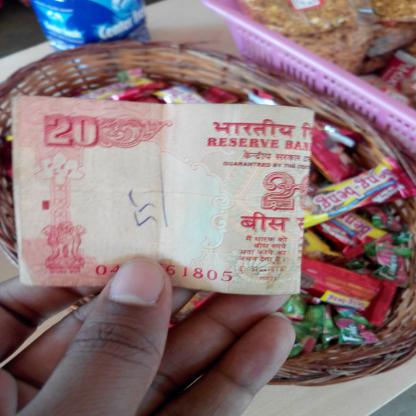Old20Front: (22, 100, 300, 285)
